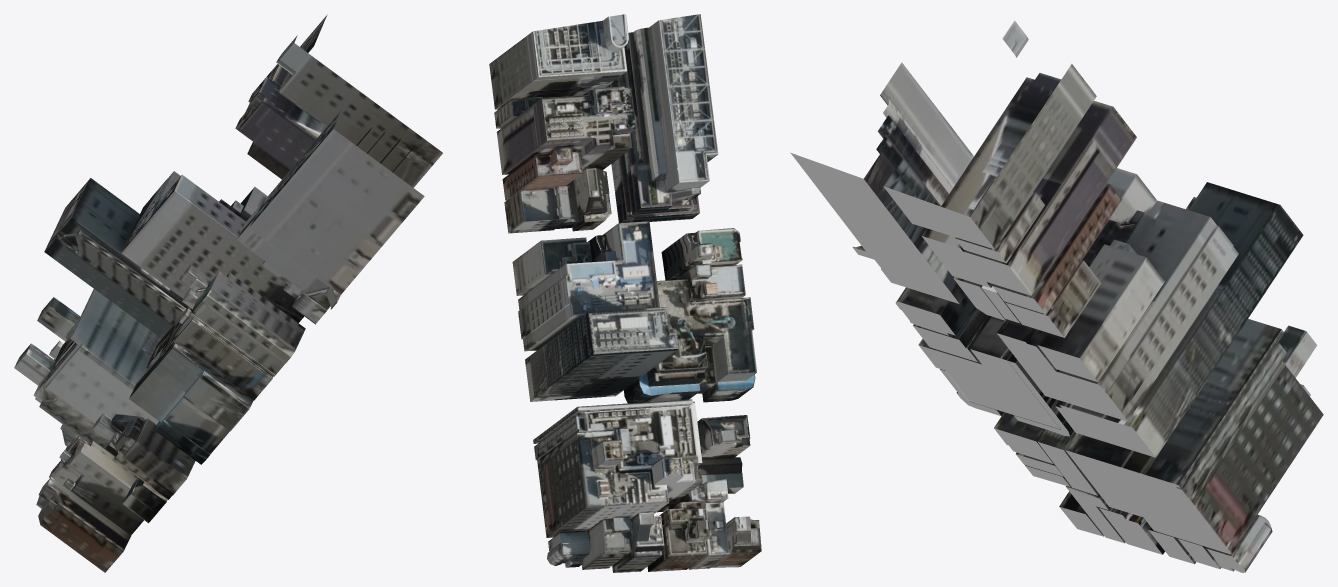
Rendered from 39535_bldg_Building.glb.
The picture shows the model from 3 angles, left to right: view 1: azimuth 30°, elevation 25°; view 2: azimuth 150°, elevation 25°; view 3: azimuth 270°, elevation 25°; orthographic projection. The views are drawn at different scales.
Size of the model in its own units: 86.68 by 121 by 97.33.
3 materials, 2 textured.
